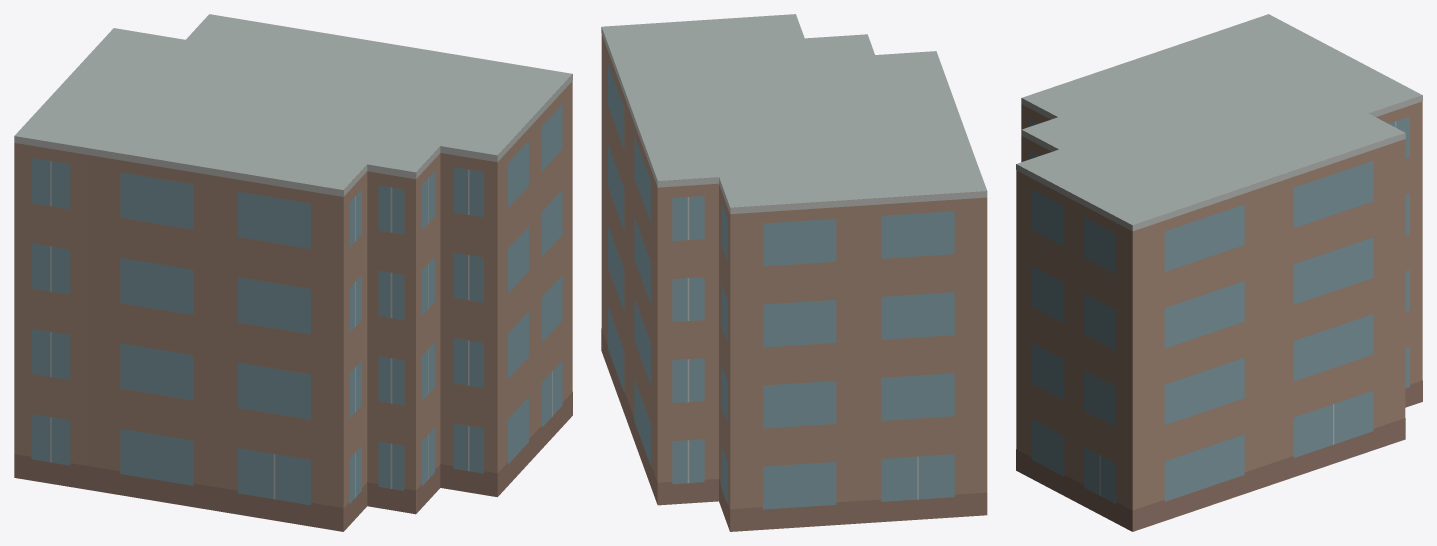
Rendered from residential-e1810b13-4195-4276-b106-79998f633438.glb.
3 renders of one model, left to right at view 1: azimuth 30°, elevation 25°; view 2: azimuth 150°, elevation 25°; view 3: azimuth 270°, elevation 25°, orthographic. The views are drawn at different scales.
Visible parts, largest first — view 1: residential-e1810b13-4195-4276-b106-79998f633438.tmp; view 2: residential-e1810b13-4195-4276-b106-79998f633438.tmp; view 3: residential-e1810b13-4195-4276-b106-79998f633438.tmp.
Part boxes in pixels (bbox=[...]): residential-e1810b13-4195-4276-b106-79998f633438.tmp: bbox=[14, 14, 572, 531]; residential-e1810b13-4195-4276-b106-79998f633438.tmp: bbox=[601, 14, 987, 531]; residential-e1810b13-4195-4276-b106-79998f633438.tmp: bbox=[1016, 14, 1422, 531].
Size of the model in its own units: 18.04 by 12.2 by 14.67.
